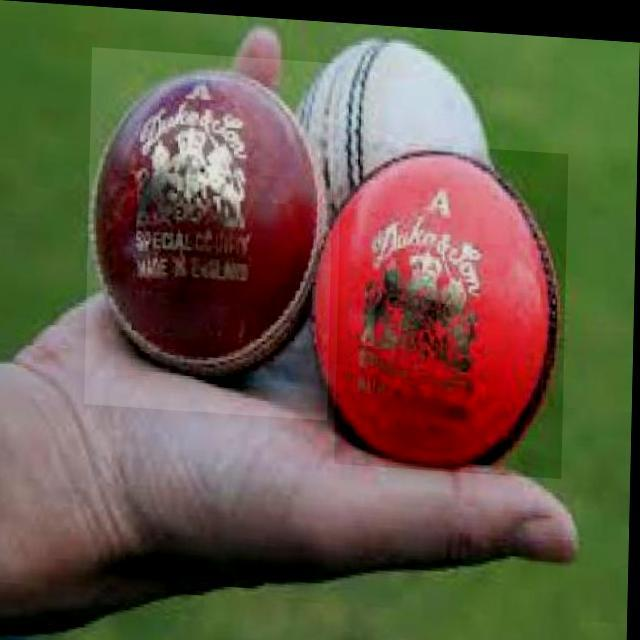Red_Ball: (91, 46, 325, 416), (314, 139, 564, 465)
